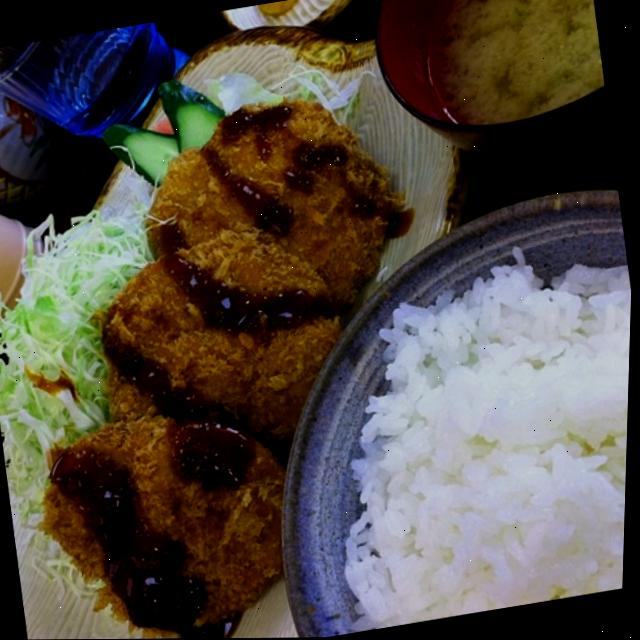牛肉菜式: (0, 34, 508, 640)
